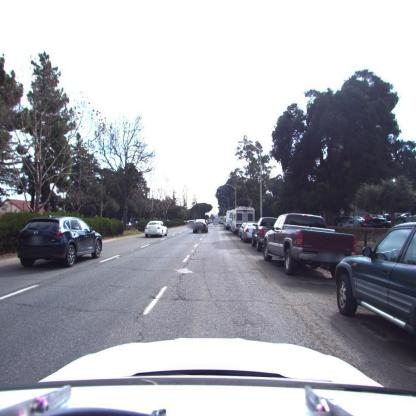car: (17, 216, 104, 268), (252, 218, 278, 251), (144, 220, 168, 237), (334, 216, 366, 228), (361, 216, 390, 229), (240, 221, 256, 242), (192, 219, 209, 234)
truck: (334, 219, 416, 357), (262, 214, 358, 280), (227, 207, 256, 234)
